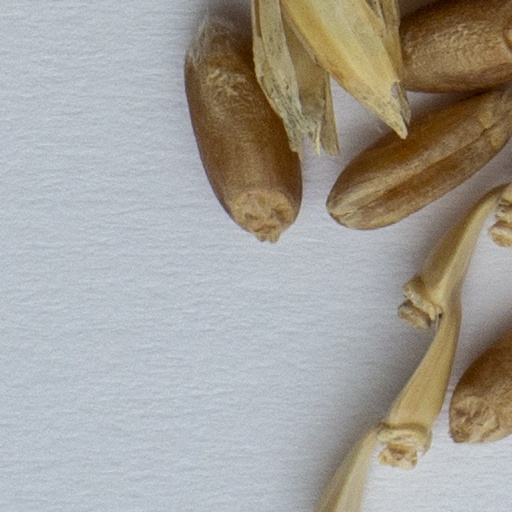Peel-poly: (312, 139, 511, 511), (251, 0, 402, 152)
